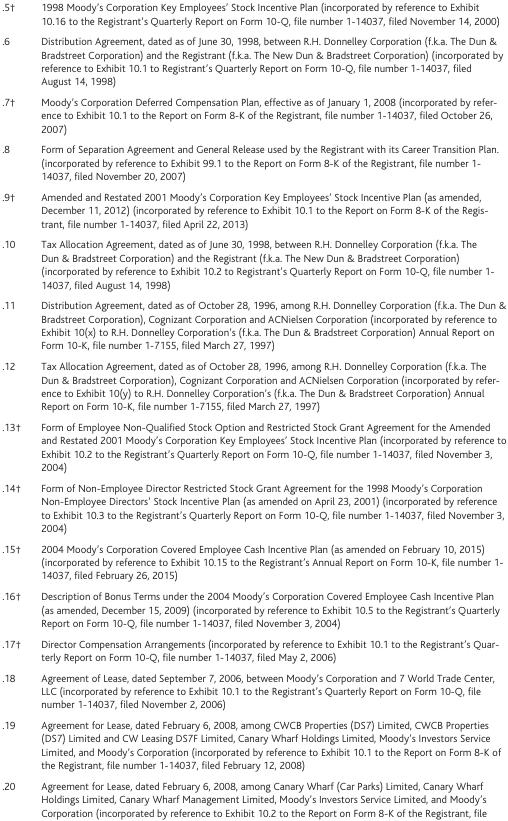table: (1, 1, 505, 818)
table column: (30, 1, 505, 818), (1, 1, 30, 818)
table row: (1, 30, 505, 91), (1, 233, 505, 294), (1, 294, 505, 355), (1, 355, 505, 416), (1, 416, 505, 477), (1, 477, 505, 538), (1, 714, 505, 775), (1, 138, 505, 186), (1, 666, 505, 714), (1, 91, 505, 138), (1, 186, 505, 233), (1, 538, 505, 585), (1, 585, 505, 632), (1, 775, 505, 818), (1, 632, 505, 666), (1, 1, 505, 30)
